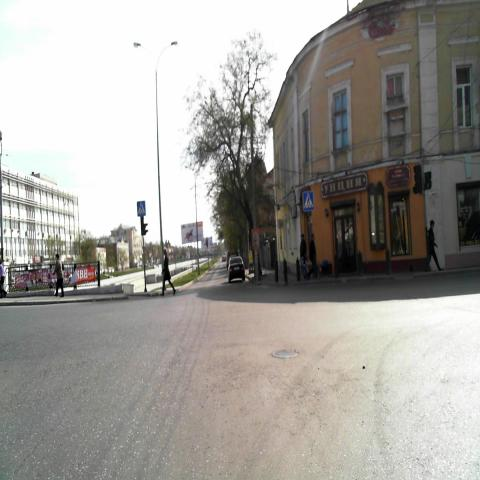5_19_1: (302, 191, 314, 212)
